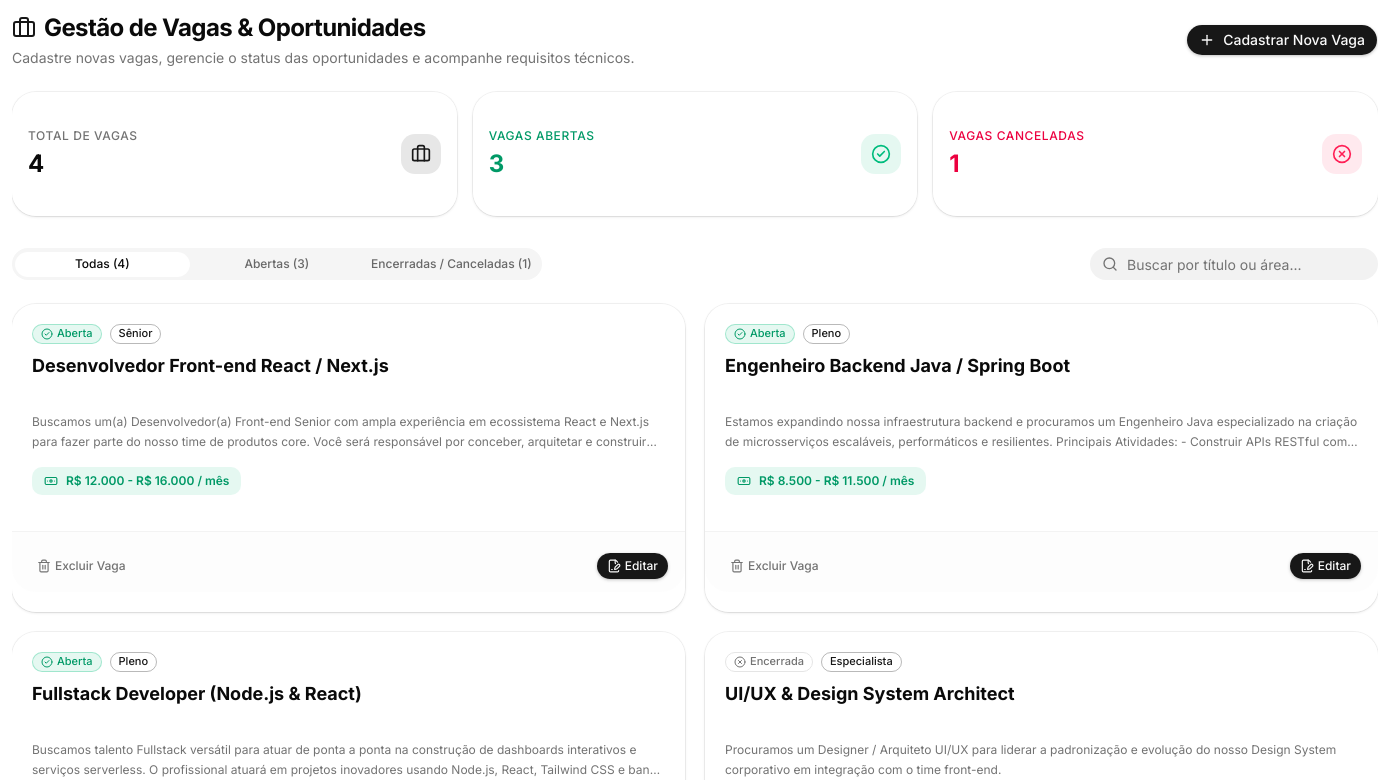
RecruiterJobDashboard Component › filters job cards based on search input and shows empty state when no matches found
The width and height of the screenshot is (1390, 780).
Type "Front-end" into the field with placeholder "Buscar por título ou área..." at (1234, 264), box [1090,248,1378,280]
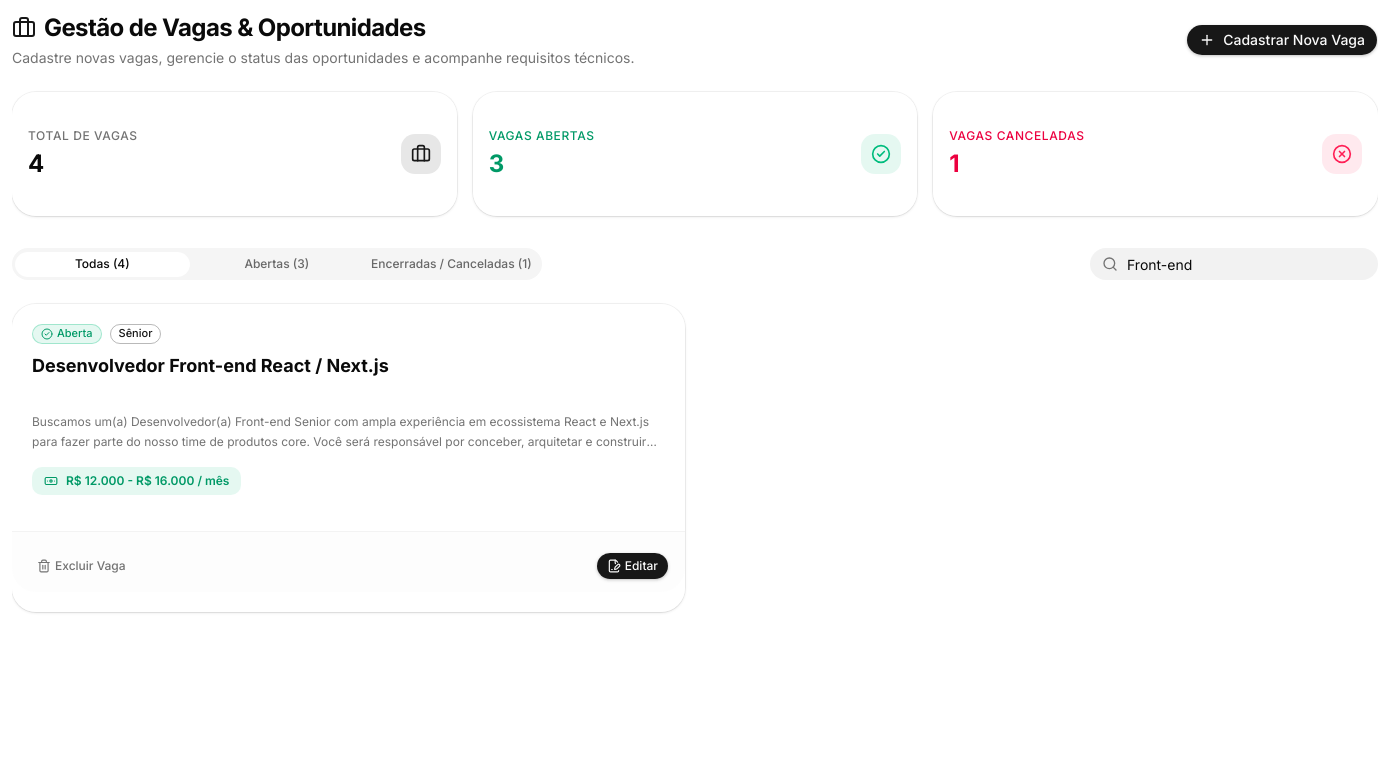
Expected: the text "Desenvolvedor Front-end React / Next.js" is shown, [32,348,389,380]
Replace the text in the field with placeholder "Buscar por título ou área..." with "TermoInexistente999" at (1234, 264), box [1090,248,1378,280]
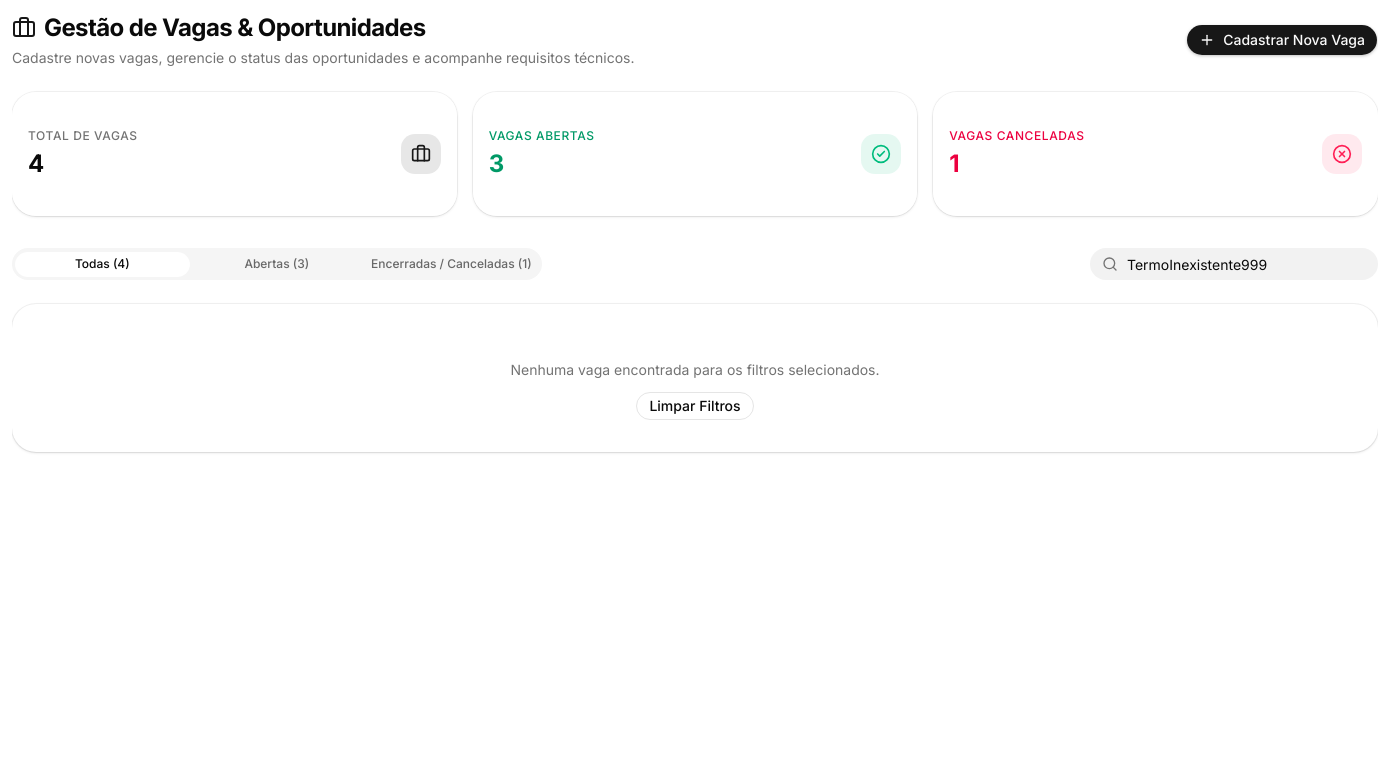
Now the text "Nenhuma vaga encontrada para os filtros selecionados." is shown, box [510,361,880,378]
Click the button "Limpar Filtros" at (695, 406), box [636,392,754,420]
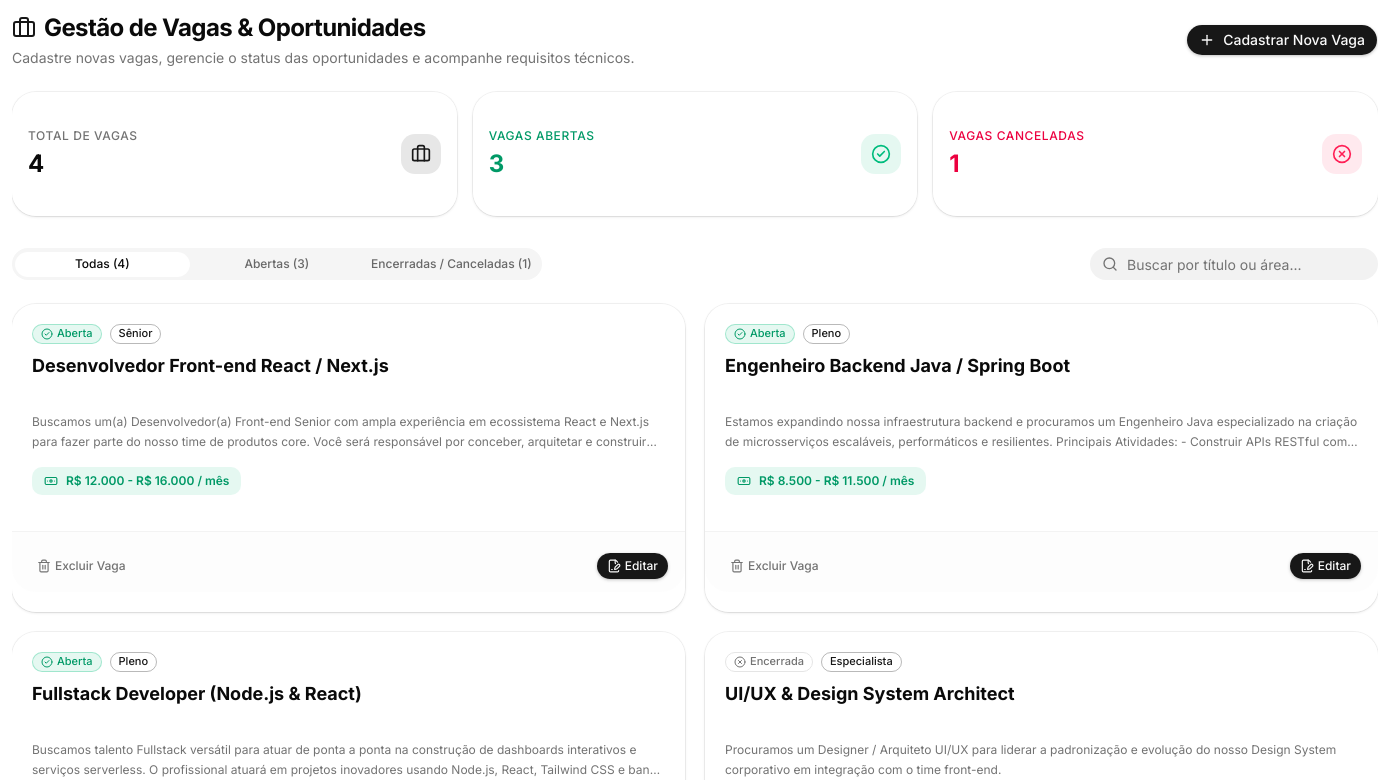
Now the text "Desenvolvedor Front-end React / Next.js" is shown, box [32,348,389,380]
